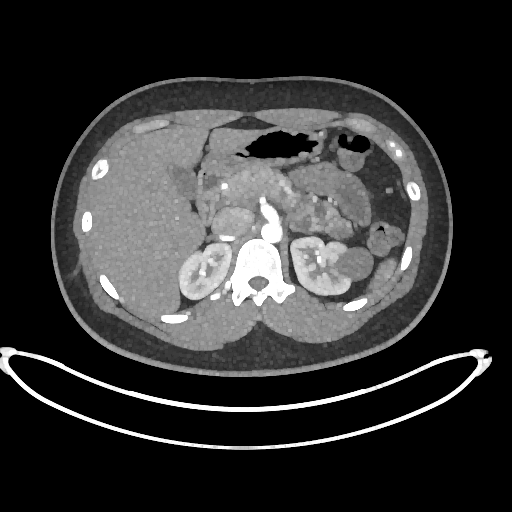Lesion: (331, 246, 373, 283)
